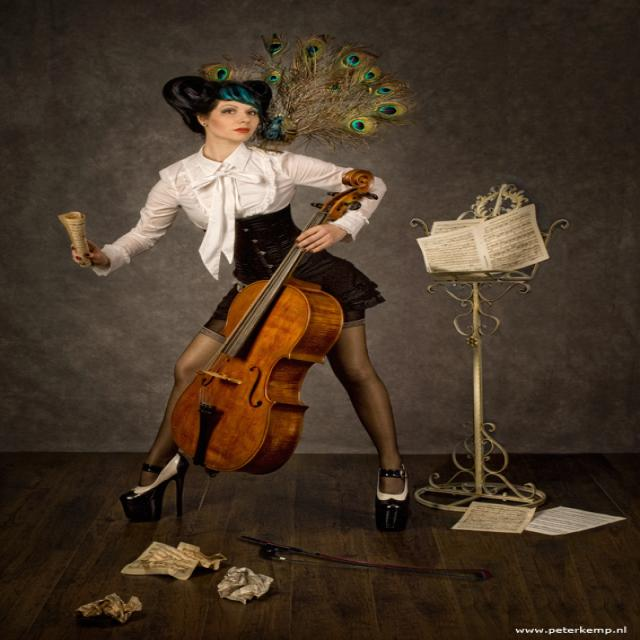cello: (167, 168, 382, 478)
